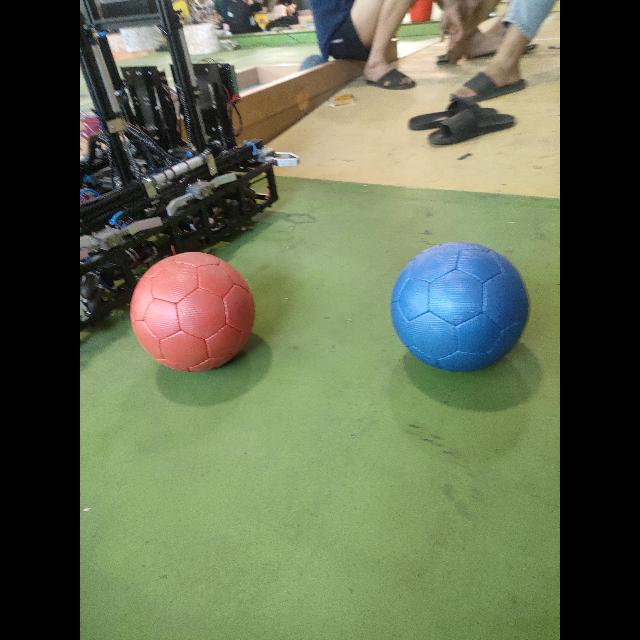B: (391, 242, 529, 371)
R: (130, 252, 255, 371)
